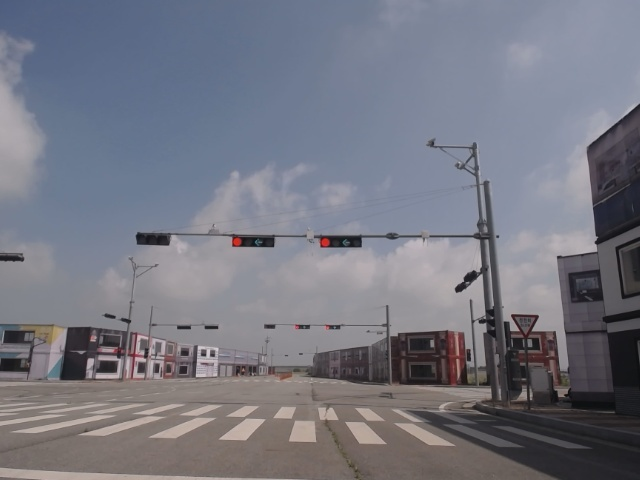left_green_4: (232, 236, 275, 248), (320, 237, 362, 247)
